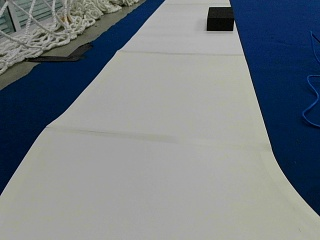block: (206, 6, 234, 30)
